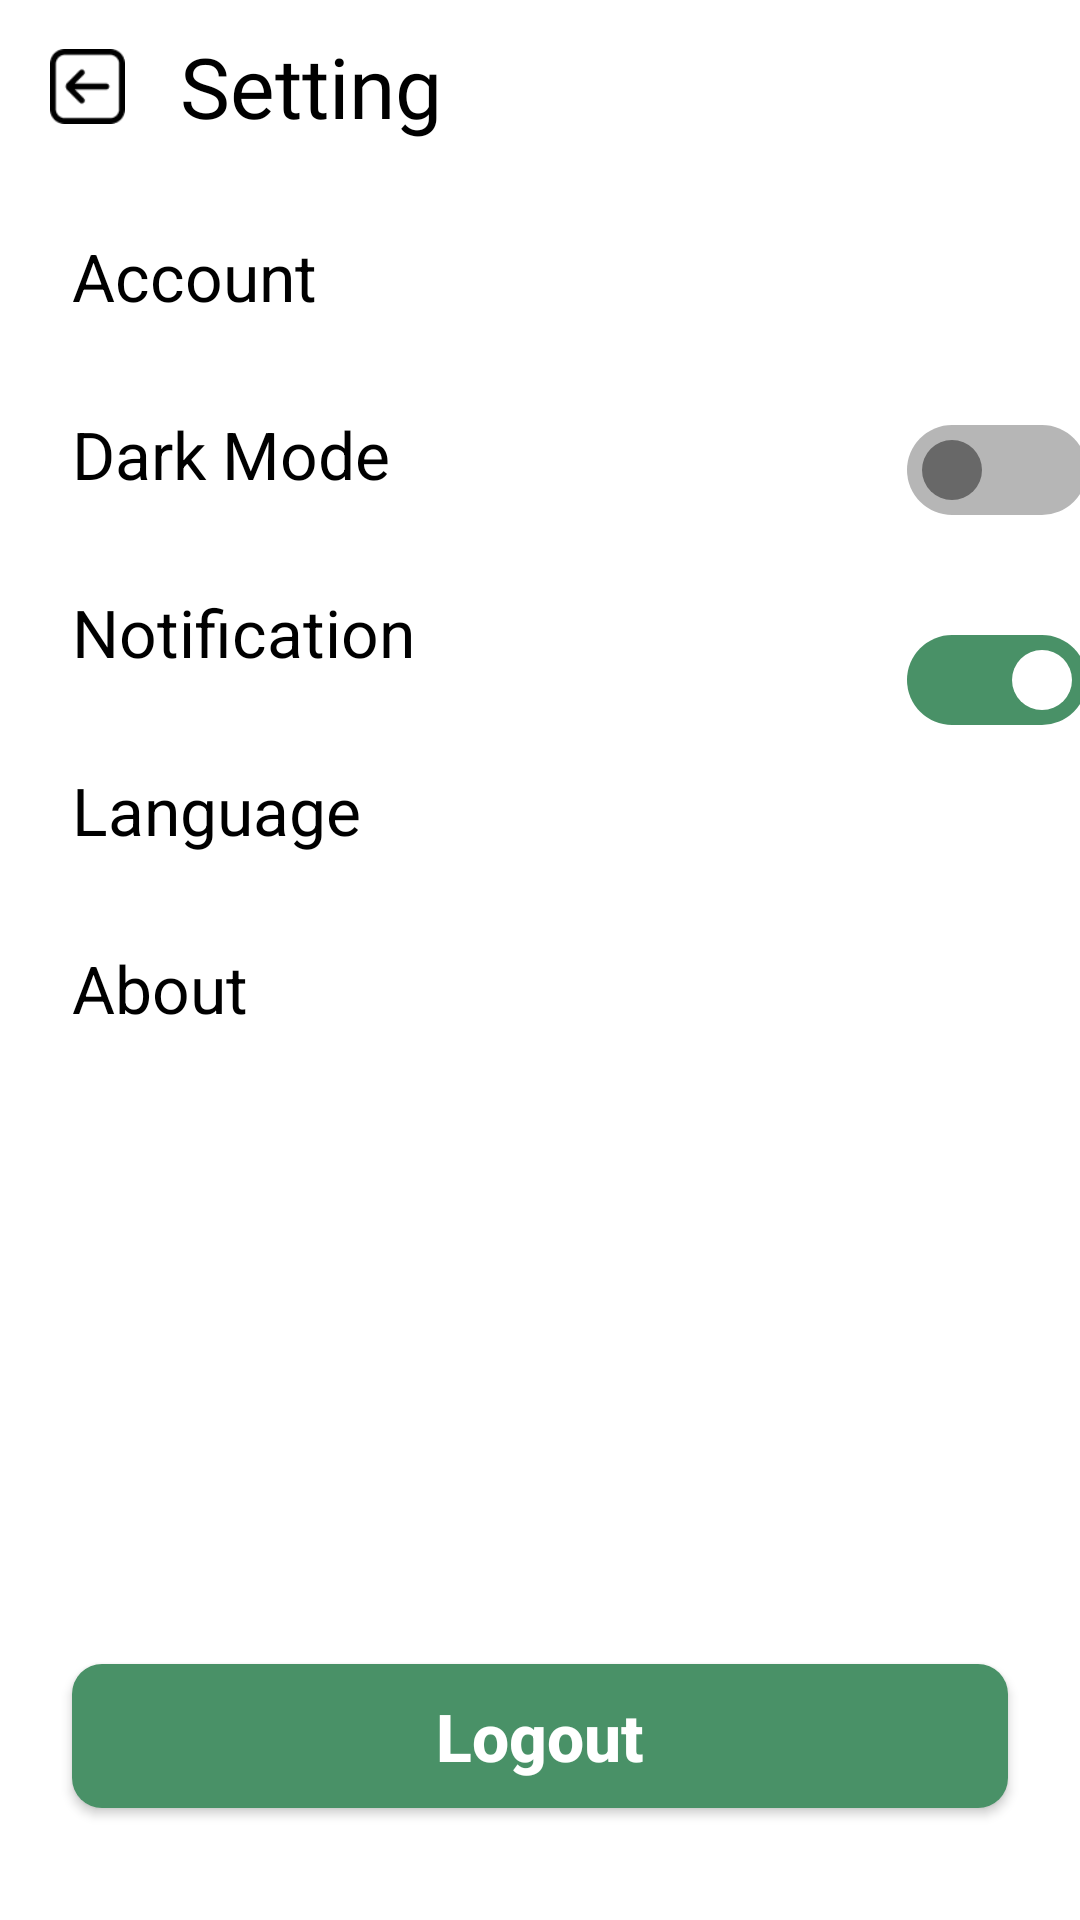

Locate icon controls on the screen. Image size 1080x1920, boxes as (x1, y1, x2, y2).
back: (50, 49, 125, 124)
